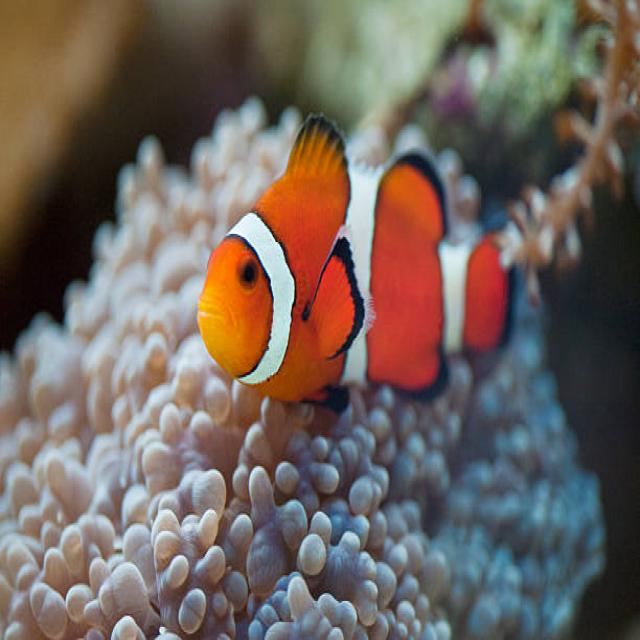ClownFish: (197, 107, 516, 401)
